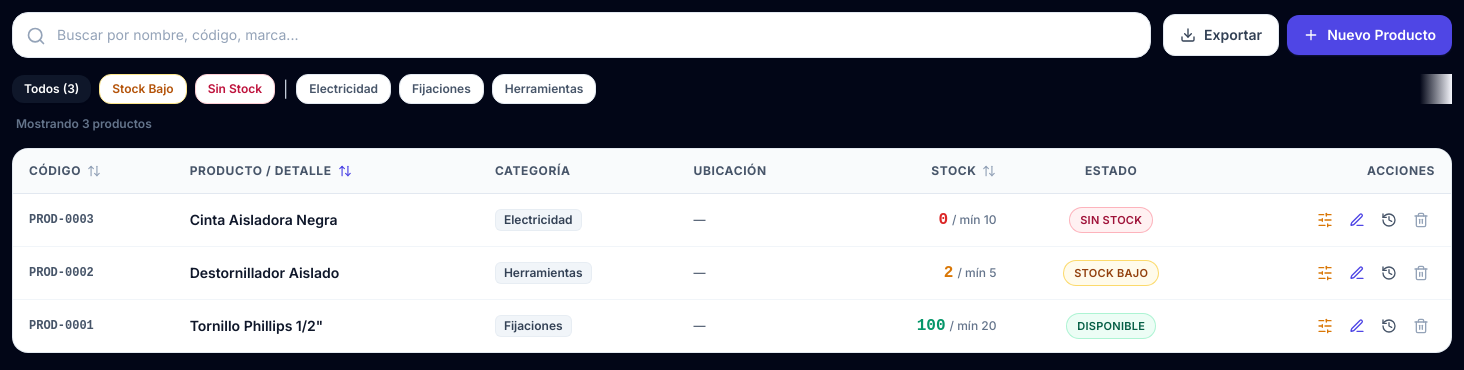
it: ProductsView Component › muestra estado vacío cuando no hay coincidencias
In the field with placeholder "Buscar por nombre, código, marca...": (582, 35) top-left (12, 12), bottom-right (1151, 58), type "articulo_inexistente_999"
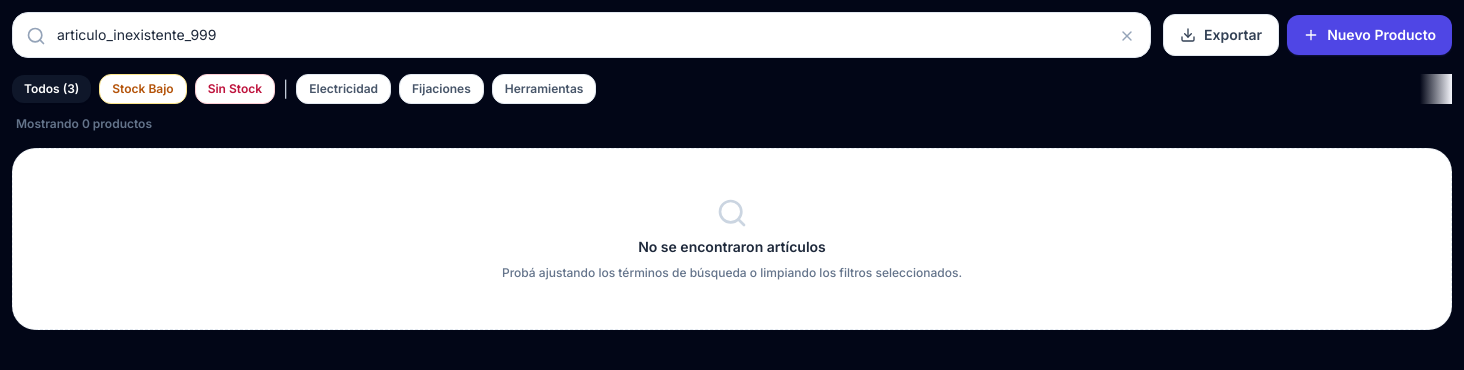
Expected: the heading "No se encontraron artículos" is shown, top-left (638, 237), bottom-right (826, 257)
